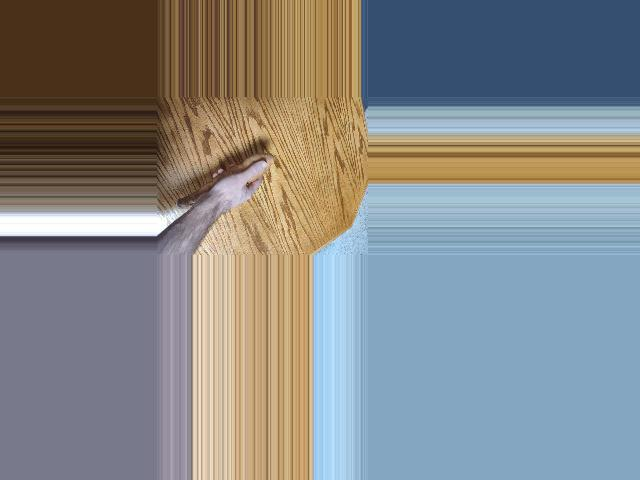sweet_potato: (160, 151, 275, 210)
